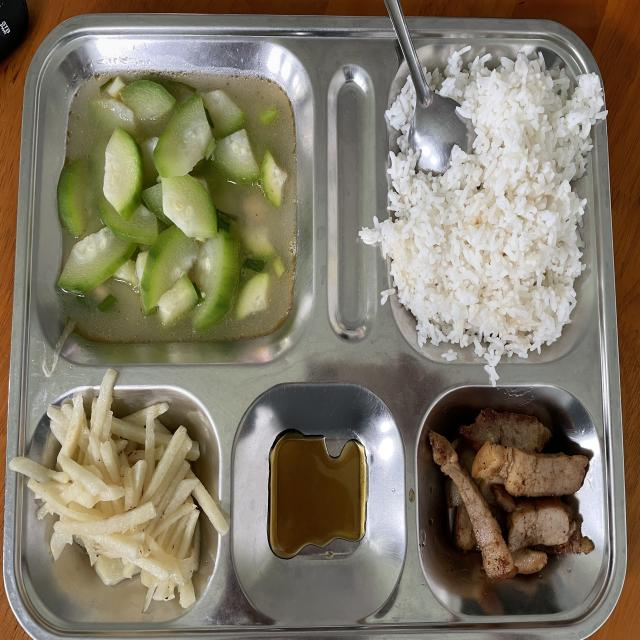canh bau: (56, 71, 298, 343)
com: (360, 46, 606, 383)
kho tieu: (429, 408, 594, 581)
